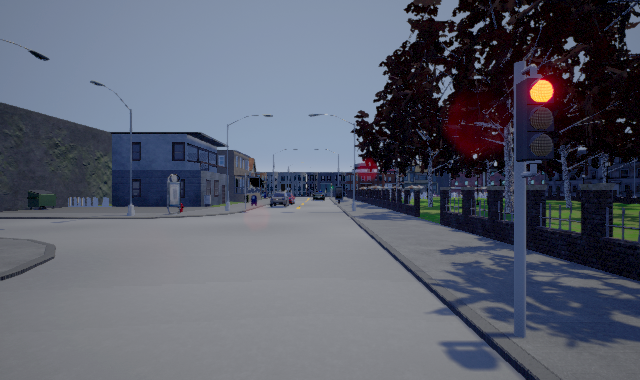traffic_light: (516, 64, 559, 178)
vehicle: (270, 192, 295, 207), (312, 190, 325, 201)
